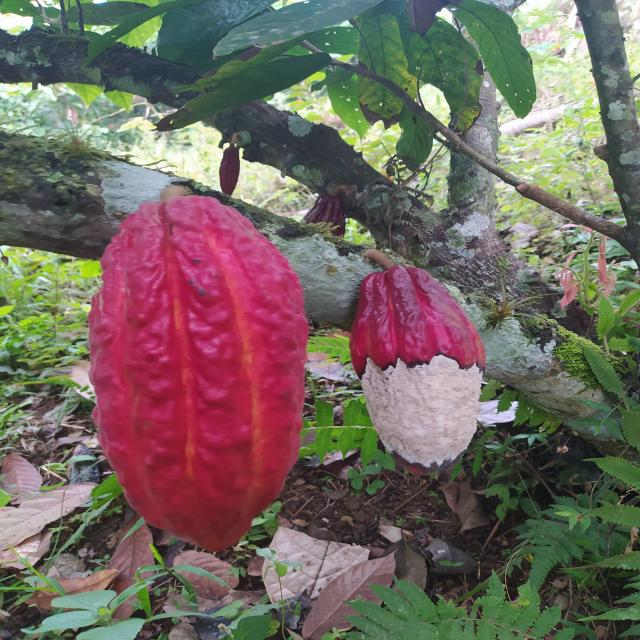Monilia: (346, 267, 486, 468)
Sana: (85, 193, 309, 554), (219, 144, 239, 196)
